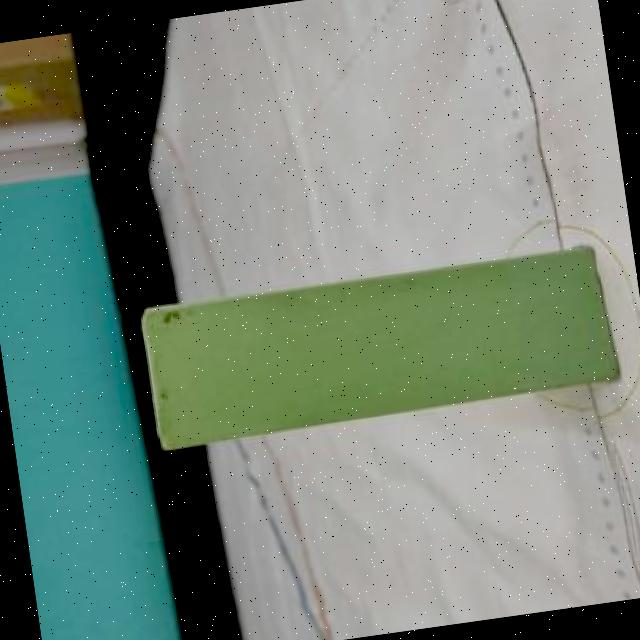greenbox: (140, 243, 624, 446)
